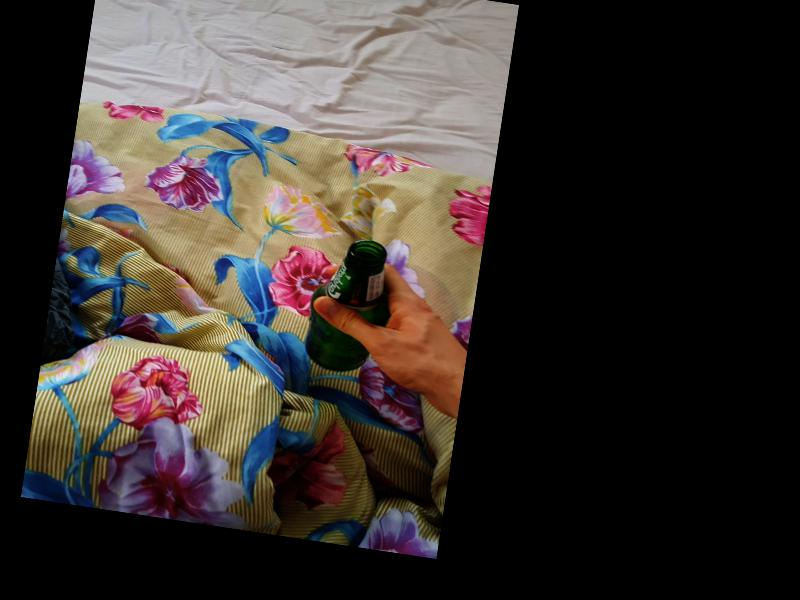Beer: (303, 235, 400, 378)
